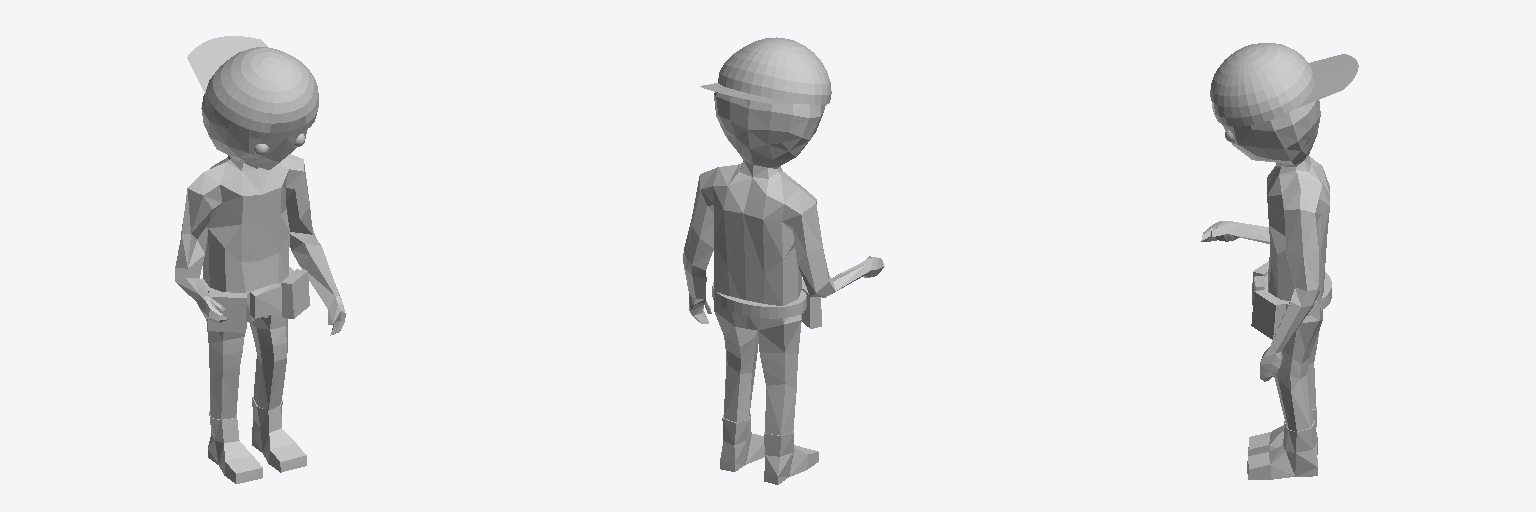
The model's file is Main_Character_Pickup_Paint_5.obj.
3 views of the same model, side by side, from view 1: azimuth 30°, elevation 25°; view 2: azimuth 150°, elevation 25°; view 3: azimuth 270°, elevation 25° (orthographic).
Parts seen in each view (by area): view 1: Main_Character_Test.003_Main_Character_Test.004; view 2: Main_Character_Test.003_Main_Character_Test.004; view 3: Main_Character_Test.003_Main_Character_Test.004.
Part boxes in pixels (left/top/right/bottom): Main_Character_Test.003_Main_Character_Test.004: left=175, top=36, right=345, bottom=483; Main_Character_Test.003_Main_Character_Test.004: left=683, top=37, right=884, bottom=484; Main_Character_Test.003_Main_Character_Test.004: left=1201, top=43, right=1358, bottom=479.
Bounding box in the file's own units: 1.63 × 3.93 × 1.35.